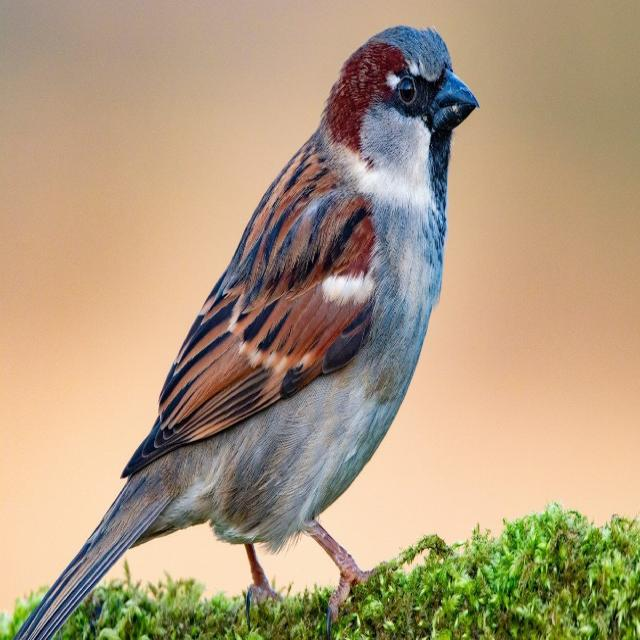Sparrow: (33, 19, 478, 626)
